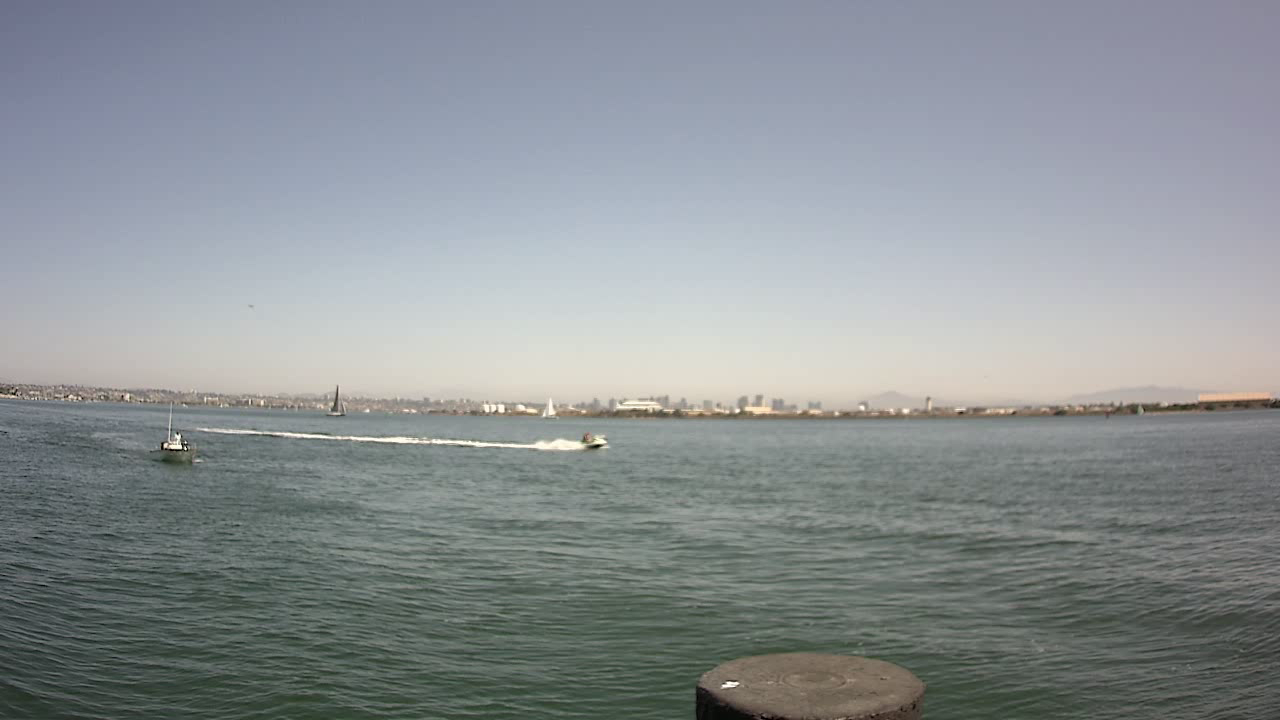target: (143, 428, 201, 470)
